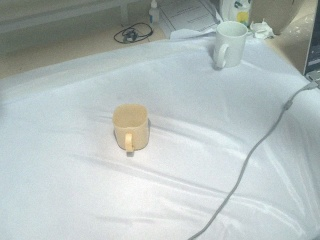bottle: (148, 1, 160, 28)
cup: (112, 102, 150, 153), (210, 21, 249, 70)
